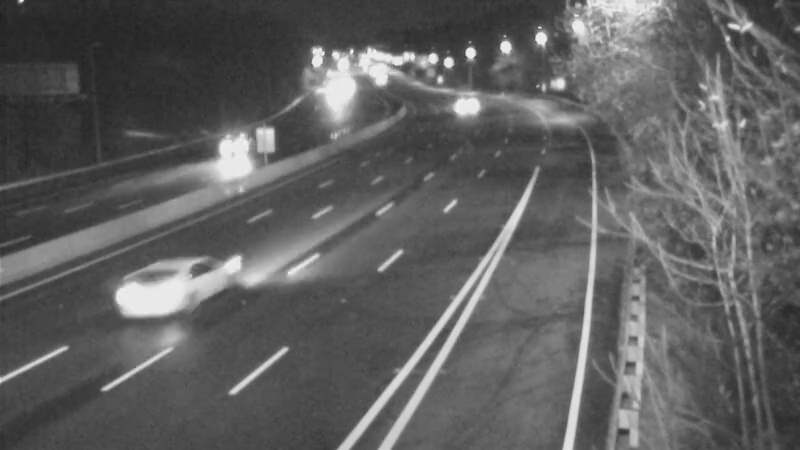vehicle: (112, 257, 192, 337), (174, 117, 254, 197), (440, 75, 490, 125)
